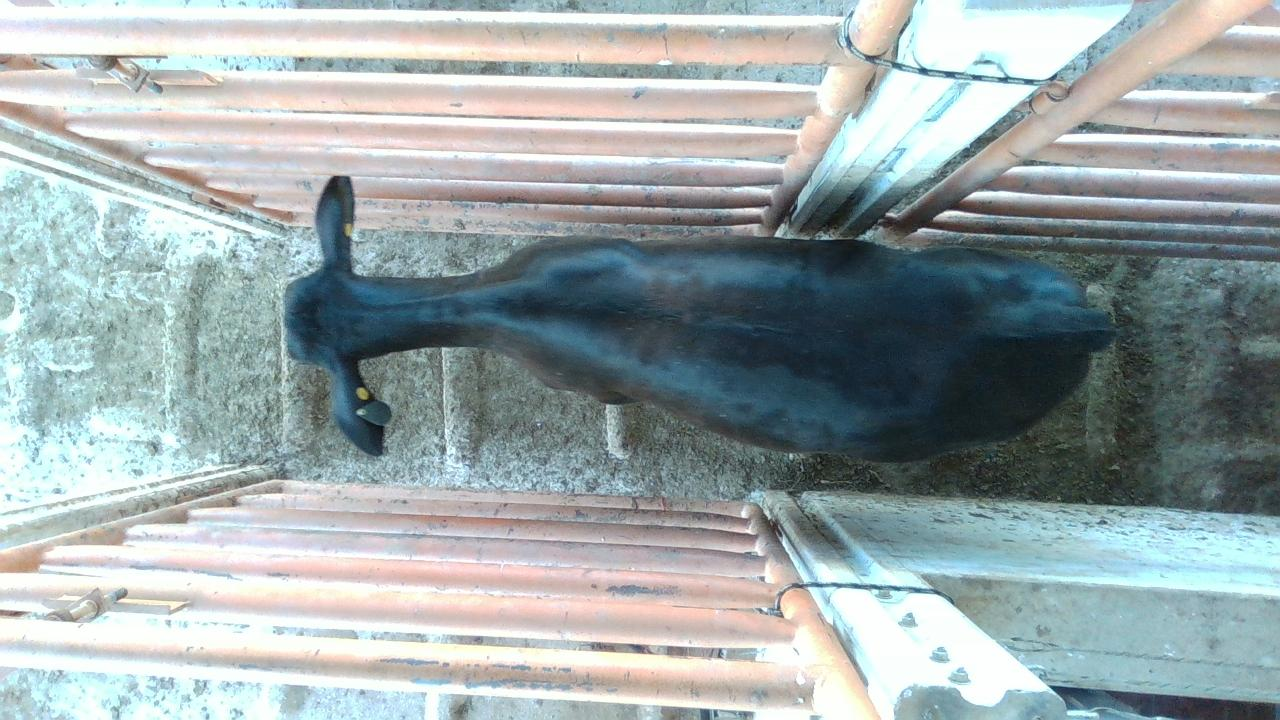cattle: (281, 173, 1121, 462)
